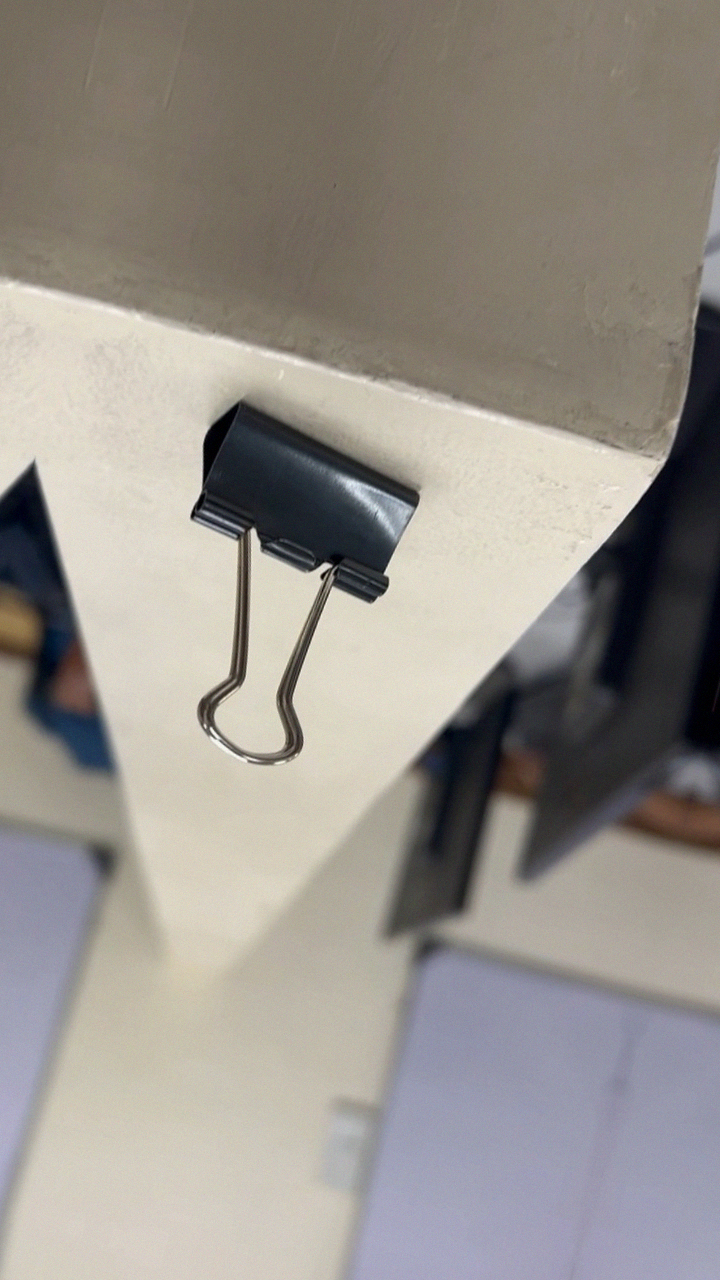kep_giay: (122, 396, 434, 793)
